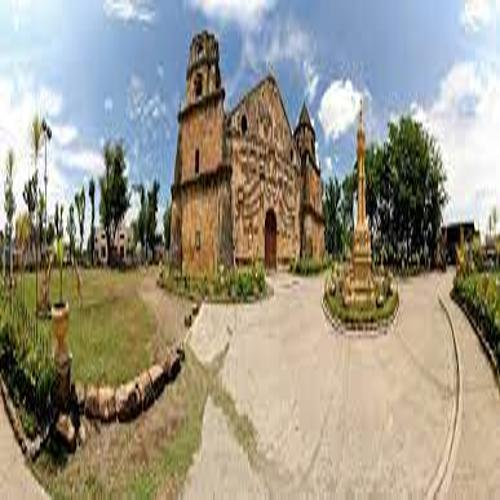Miagao Church: (173, 32, 338, 291)
